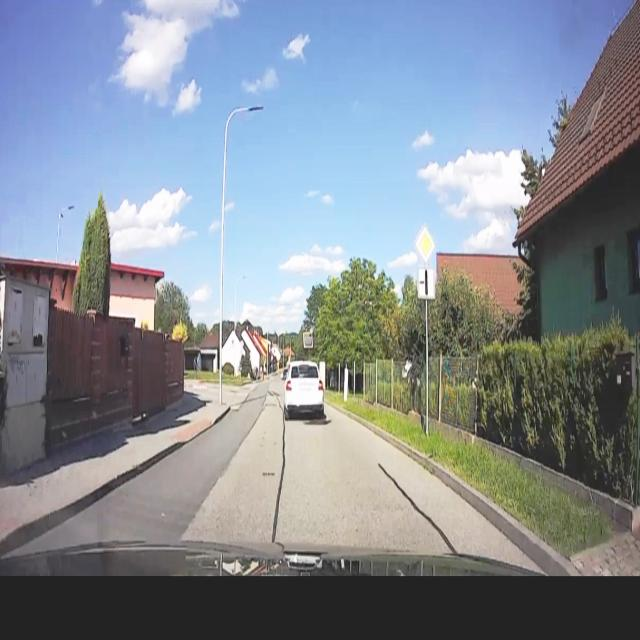Priority road: (412, 219, 437, 262)
